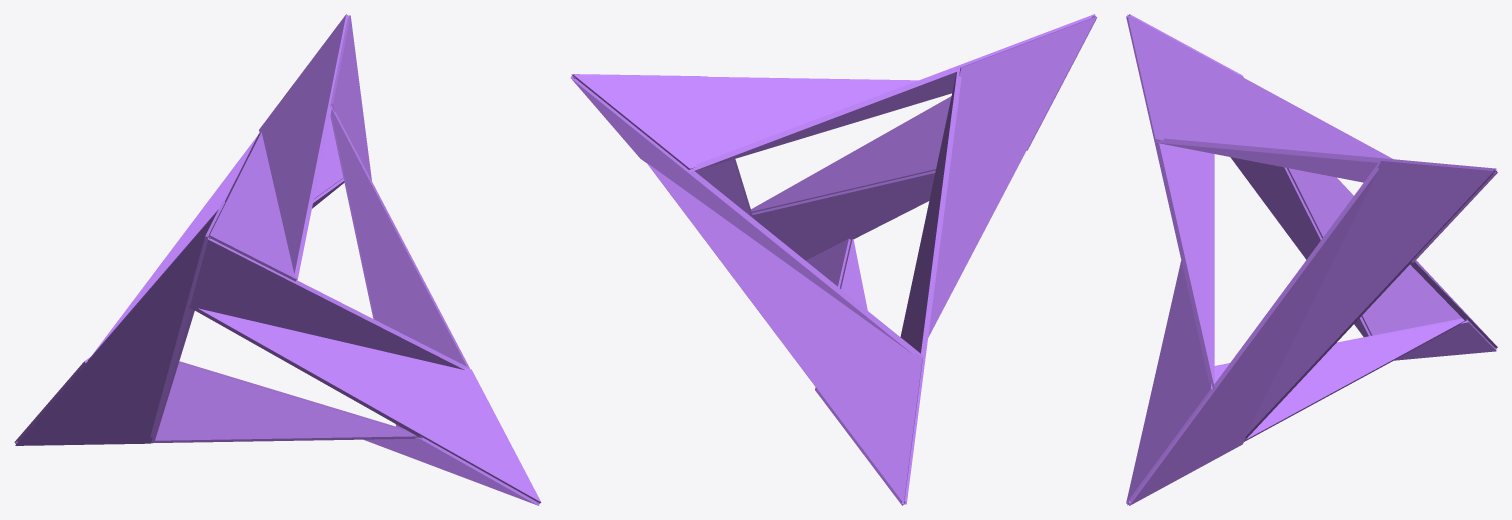
File: Tetrahedron1.glb
The picture shows the model from 3 angles, left to right: view 1: azimuth 30°, elevation 25°; view 2: azimuth 150°, elevation 25°; view 3: azimuth 270°, elevation 25°; orthographic projection. The views are drawn at different scales.
Visible parts, largest first — view 1: root; view 2: root; view 3: root.
Part boxes in pixels (x1,y1,x2,y2): root: (14, 14, 541, 505); root: (570, 14, 1097, 505); root: (1126, 14, 1497, 505).
Size of the model in its own units: 0.7144 by 0.7144 by 0.7144.
